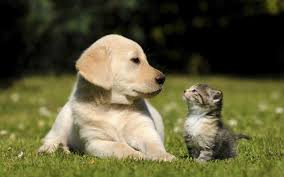cat: (178, 81, 243, 162)
dog: (42, 34, 175, 168)
